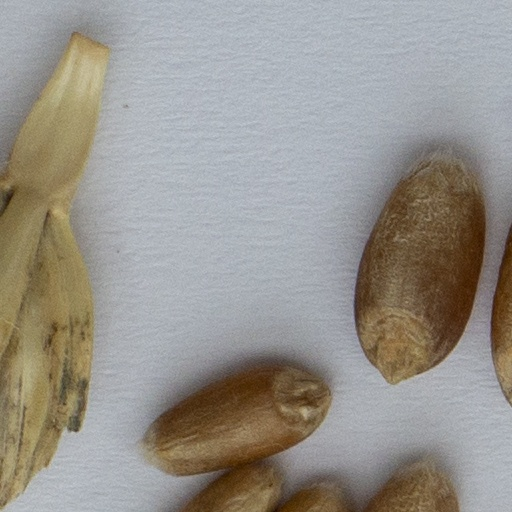Peel-poly: (0, 37, 103, 508)
